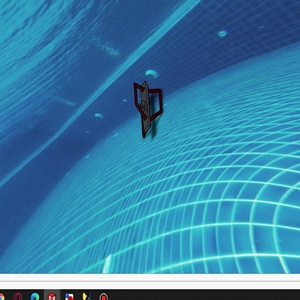submarine: (131, 83, 171, 134)
